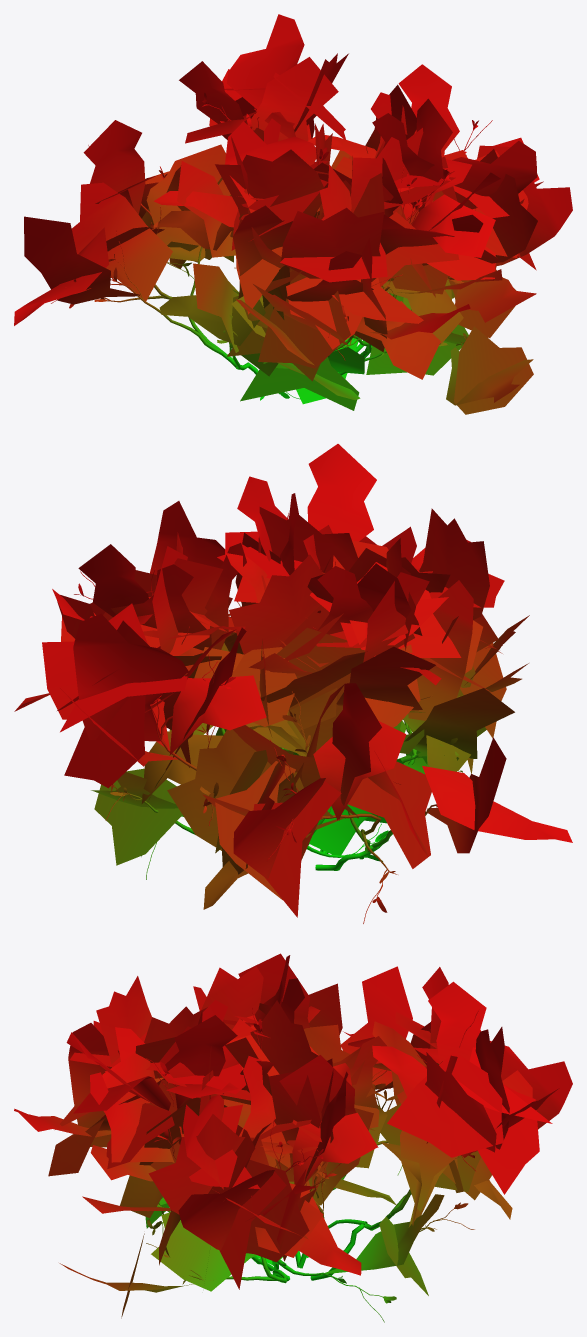
File: Downy Willow_LOD4_Var2_wknlfiuqx.fbx
3 renders of one model, top to bottom at view 1: azimuth 30°, elevation 25°; view 2: azimuth 150°, elevation 25°; view 3: azimuth 270°, elevation 25°, orthographic. The views are drawn at different scales.
Parts seen in each view (by area): view 1: _5rg8_Var2_LOD4; view 2: _5rg8_Var2_LOD4; view 3: _5rg8_Var2_LOD4.
Part boxes in pixels (x1,y1,x2,y2): _5rg8_Var2_LOD4: (14, 14, 572, 414); _5rg8_Var2_LOD4: (14, 444, 572, 923); _5rg8_Var2_LOD4: (14, 953, 572, 1322).
Bounding box in the file's own units: 202 × 117 × 195.
